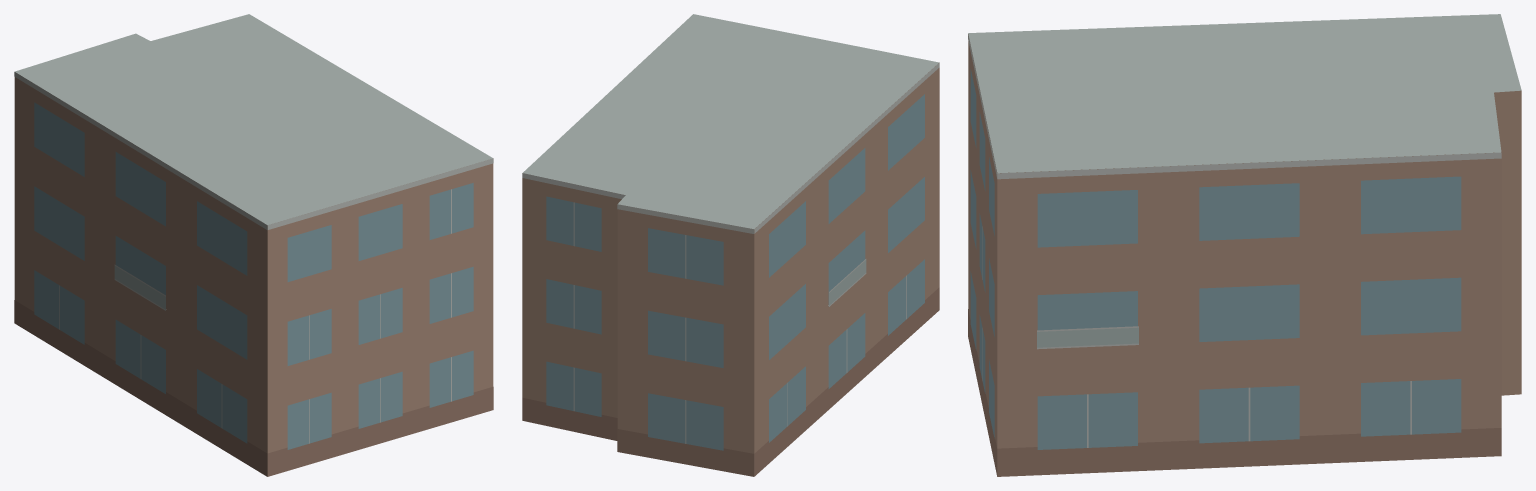
The model's file is survey-upis-32527416.glb.
3 renders of one model, left to right at view 1: azimuth 30°, elevation 25°; view 2: azimuth 150°, elevation 25°; view 3: azimuth 270°, elevation 25°, orthographic. The views are drawn at different scales.
Parts seen in each view (by area): view 1: survey-upis-32527416.tmp; view 2: survey-upis-32527416.tmp; view 3: survey-upis-32527416.tmp.
Part boxes in pixels (x1=…): survey-upis-32527416.tmp: x1=14, y1=14, x2=493, y2=476; survey-upis-32527416.tmp: x1=522, y1=14, x2=939, y2=476; survey-upis-32527416.tmp: x1=968, y1=14, x2=1521, y2=476.
Bounding box in the file's own units: 13.73 × 12.2 × 20.17.
